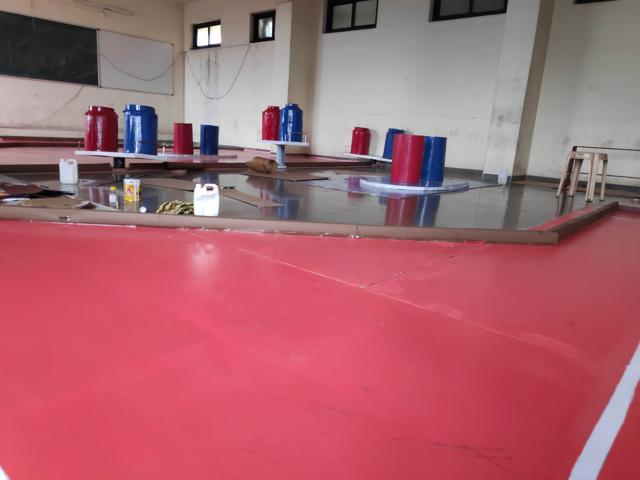Blue: (124, 105, 159, 154), (424, 136, 449, 185), (278, 103, 304, 142), (199, 124, 219, 156)
Red: (389, 133, 424, 185), (85, 107, 120, 151), (261, 105, 280, 141), (351, 126, 370, 157), (174, 124, 193, 155)
